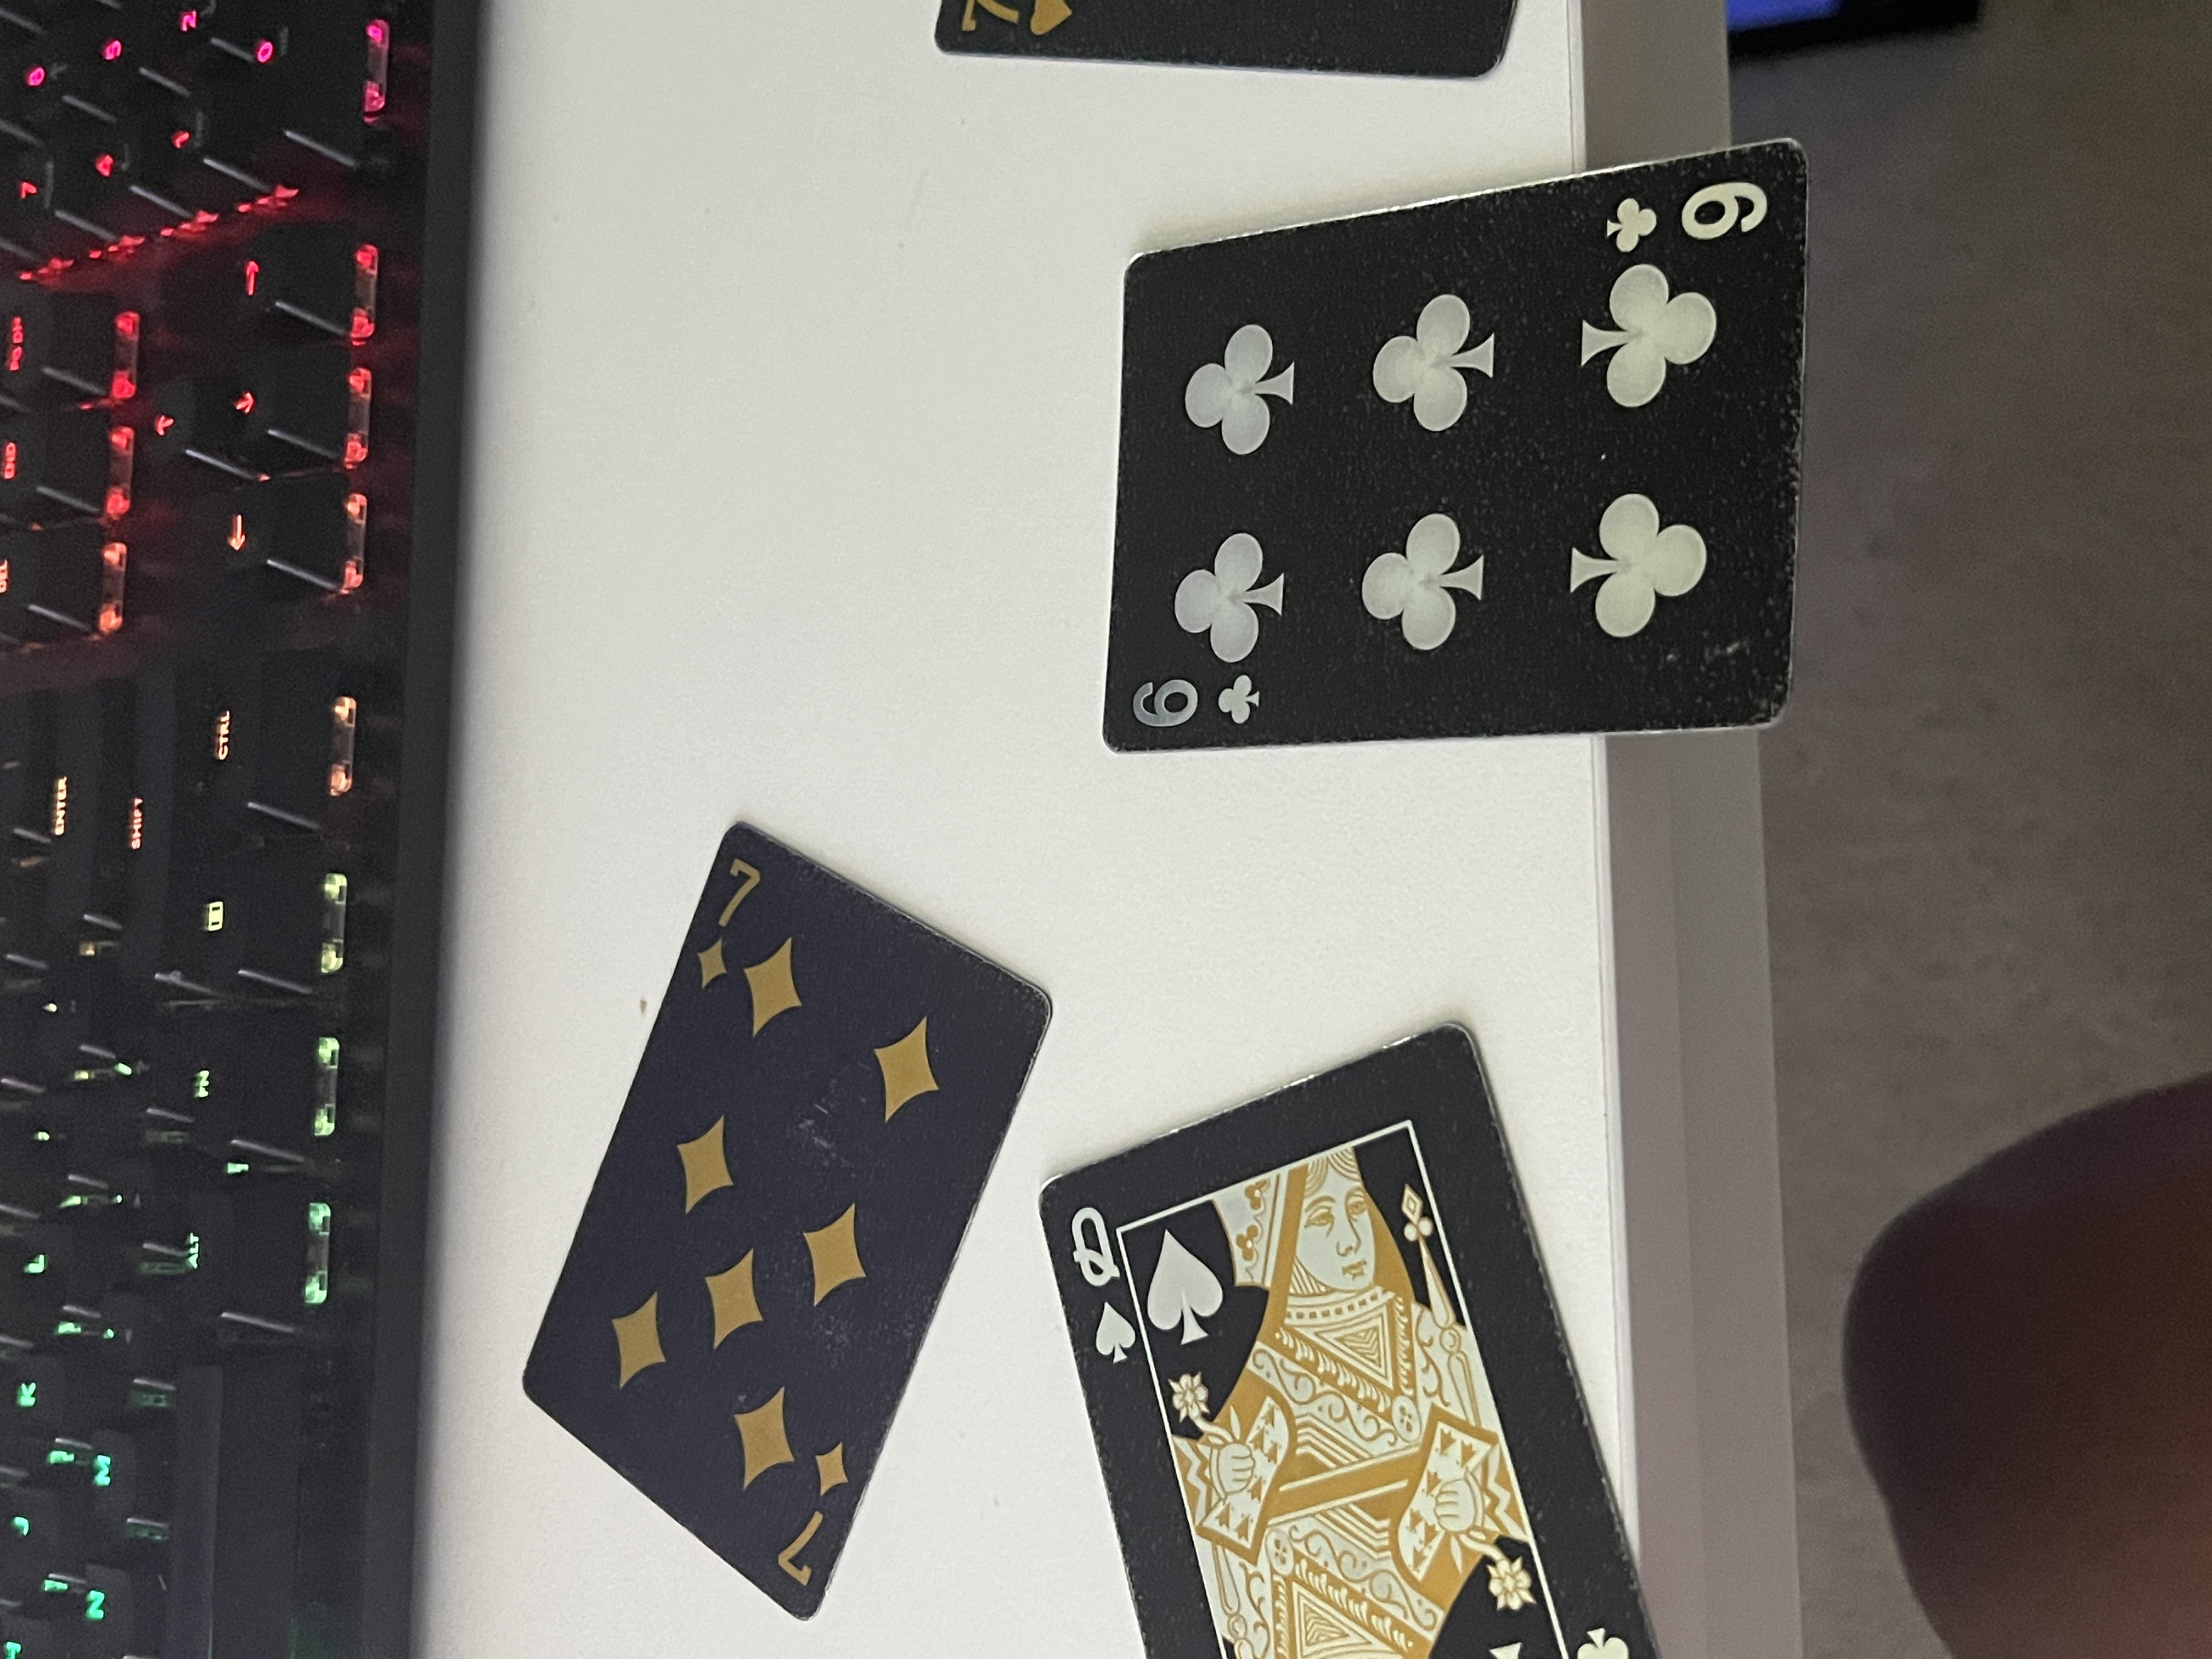6C: (1839, 1187, 2001, 1331), (1225, 844, 1335, 955)
7D: (73, 572, 311, 652), (889, 504, 1093, 580)
7H: (2132, 704, 2212, 809)
QS: (366, 792, 629, 856)
